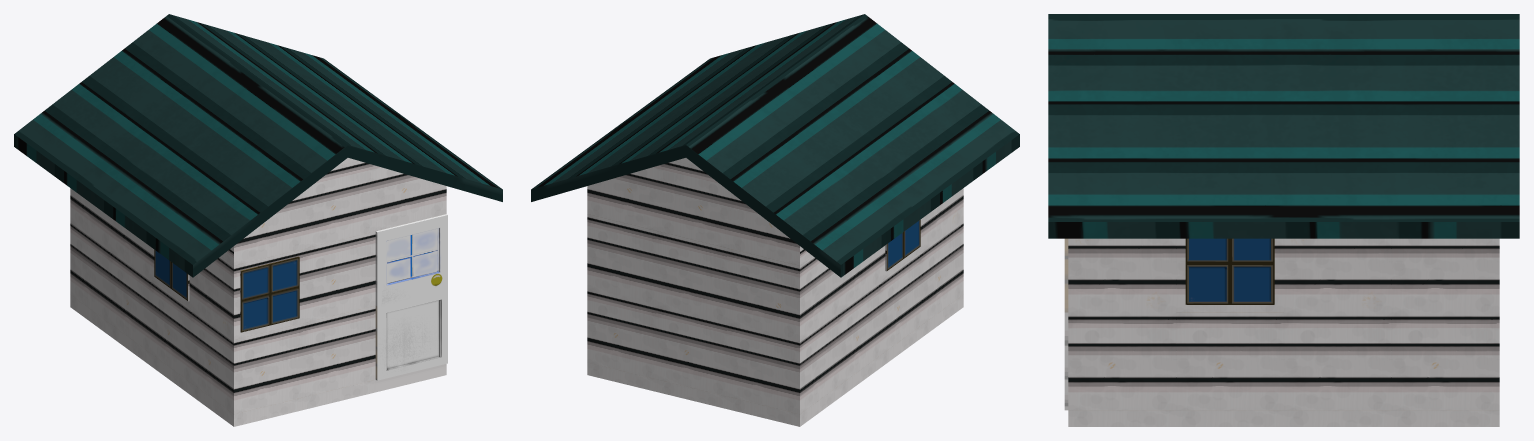
File: Houses_PierHouse1.fbx
3 renders of one model, left to right at view 1: azimuth 30°, elevation 25°; view 2: azimuth 150°, elevation 25°; view 3: azimuth 270°, elevation 25°, orthographic. The views are drawn at different scales.
Visible parts, largest first — view 1: PierHouse1; view 2: PierHouse1; view 3: PierHouse1.
Boxes of the visible parts, x1=… form: PierHouse1: x1=14, y1=14, x2=502, y2=426; PierHouse1: x1=531, y1=14, x2=1019, y2=426; PierHouse1: x1=1048, y1=14, x2=1519, y2=426.
Size of the model in its own units: 405 by 327 by 405.
1 material, 1 textured.
